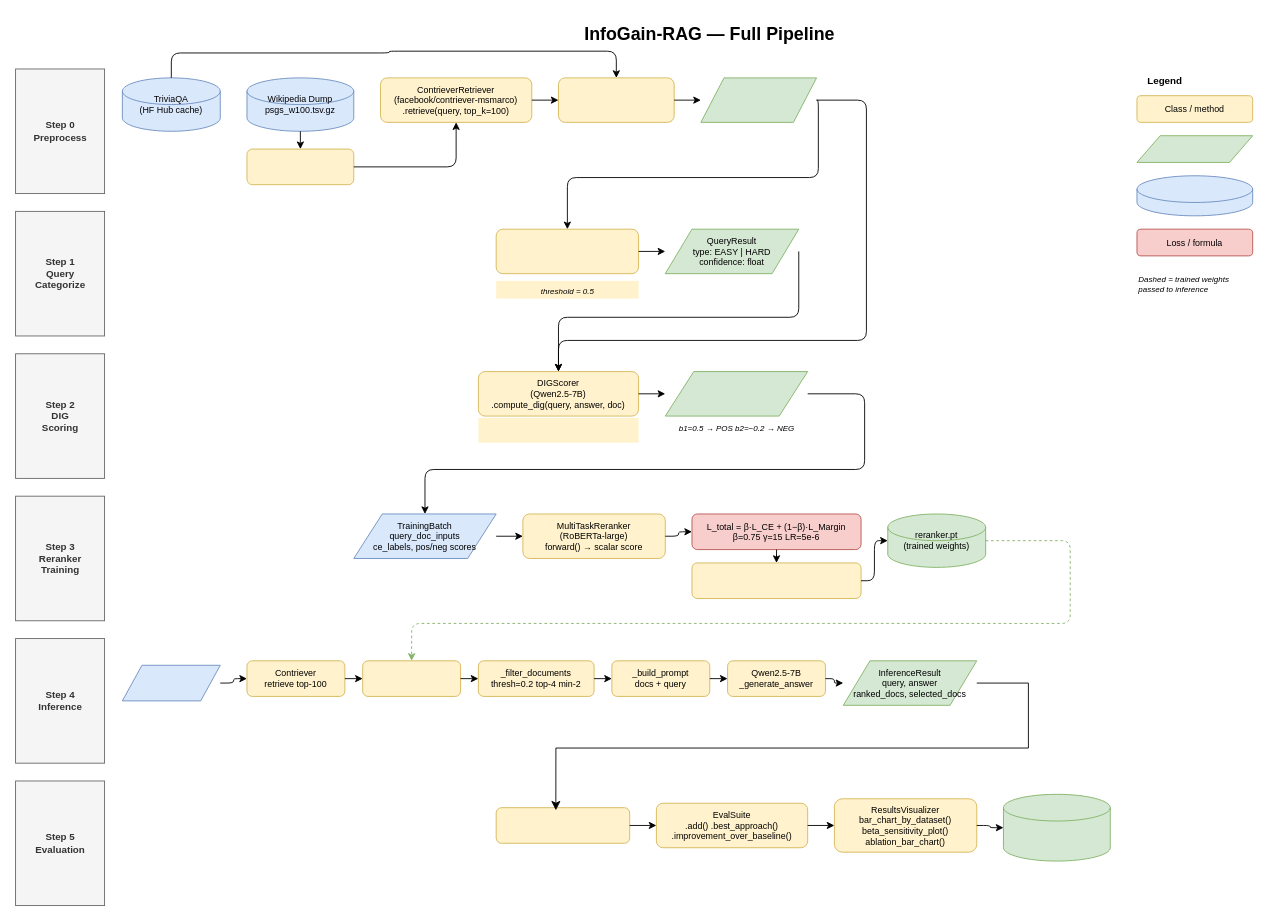
Some shapes in this 1277 by 921 pixel diagram are drawn without their labels. Here are the shapes that lost their labels. From the top down, the centre of each, then its label:
At (x=616, y=99): "Preprocessor .load_triviaqa() .build_triplets()".
At (x=758, y=99): "List[Triplet] (query, answer, doc_id, doc_text)".
At (x=300, y=166): "WikipediaCorpus .get_passage(doc_id)".
At (x=1194, y=148): "Data / artifact".
At (x=1194, y=195): "Storage (file / DB)".
At (x=567, y=251): "QueryCategorizer (Qwen2.5-7B) .categorize(query, answer)".
At (x=736, y=393): "List[DIGResult] category: POS|NEG|NEUTRAL dig_score, confidence".
At (x=558, y=429): "DIG = p(y|x,d) − p(y|x) smooth W=3, weight α=0.8^0.6".
At (x=776, y=580): "RerankerTrainer .train_step() .save() .load()".
At (x=170, y=682): "Query string".
At (x=411, y=678): "_score_documents (reranker)".
At (x=562, y=825): "exact_match() evaluate_exact_match()".
At (x=1056, y=827): "outputs/ bar_triviaqa.png ablation.png beta_sensitivity.png sample-run.log".
